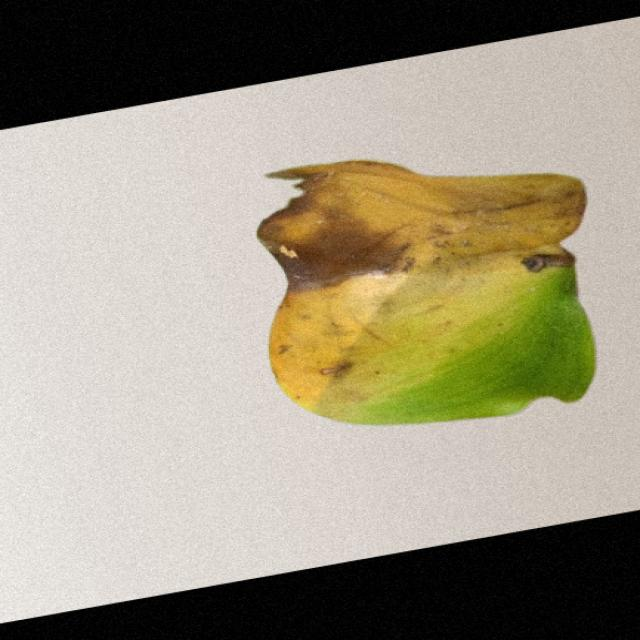daun berpenyakit kuning: (258, 160, 595, 424)
